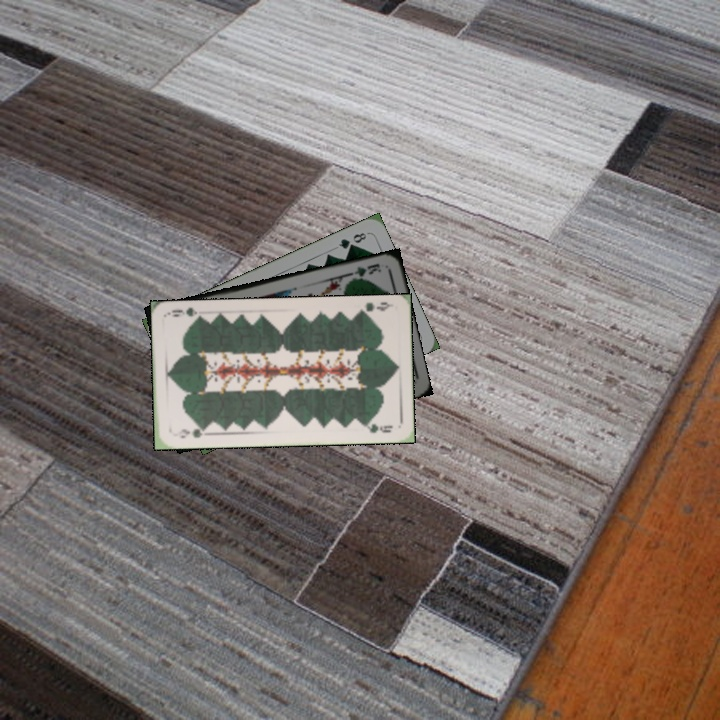G8: (335, 229, 371, 252)
G9: (354, 298, 394, 318), (173, 424, 209, 440)
GK: (346, 259, 384, 283)
